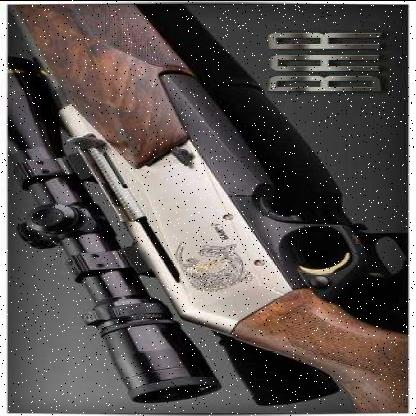rifle: (12, 3, 412, 413)
